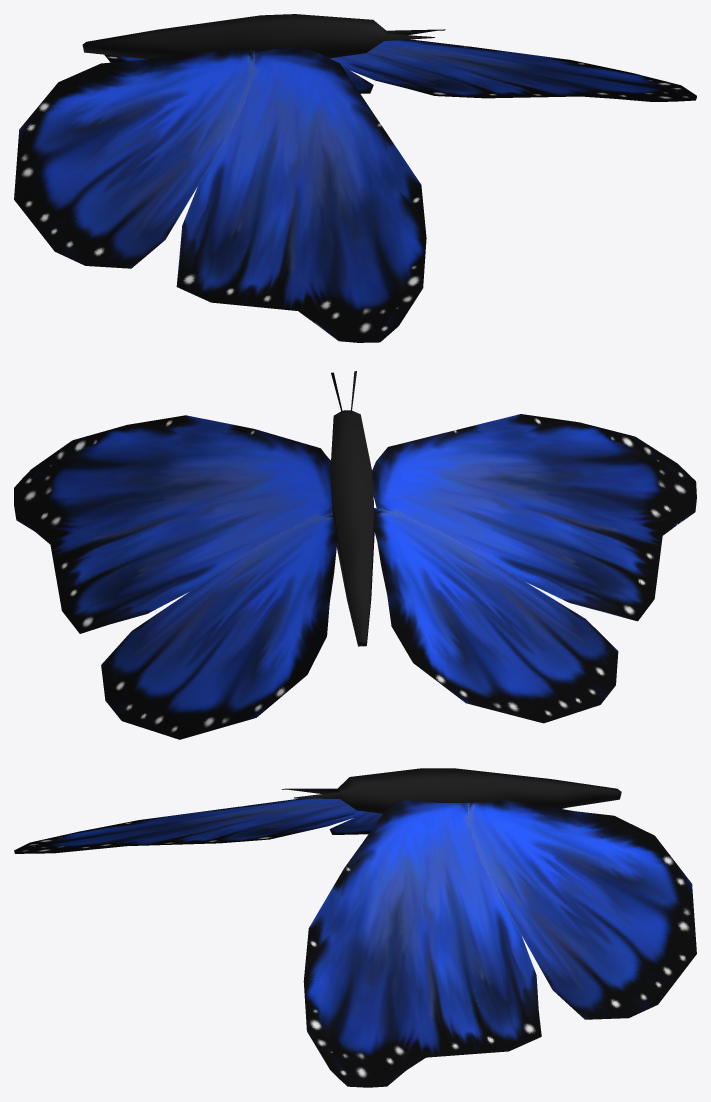
Rendered from bbfly.glb.
3 views of the same model, one above another, from view 1: azimuth 30°, elevation 25°; view 2: azimuth 150°, elevation 25°; view 3: azimuth 270°, elevation 25° (orthographic). The views are drawn at different scales.
Parts seen in each view (by area): view 1: Plane.047, Plane.046, Cube.010; view 2: Plane.046, Plane.047, Cube.010; view 3: Plane.046, Plane.047, Cube.010.
Part boxes in pixels (x1,y1,x2,y2): Plane.047: [14, 48, 426, 342]; Plane.046: [104, 39, 696, 101]; Cube.010: [82, 14, 445, 59]; Plane.046: [14, 415, 337, 739]; Plane.047: [372, 414, 696, 723]; Cube.010: [330, 371, 374, 646]; Plane.046: [303, 800, 696, 1087]; Plane.047: [14, 798, 564, 853]; Cube.010: [282, 768, 621, 813].
Size of the model in its own units: 1.91 by 0.6158 by 1.91.
2 materials, 1 textured.
